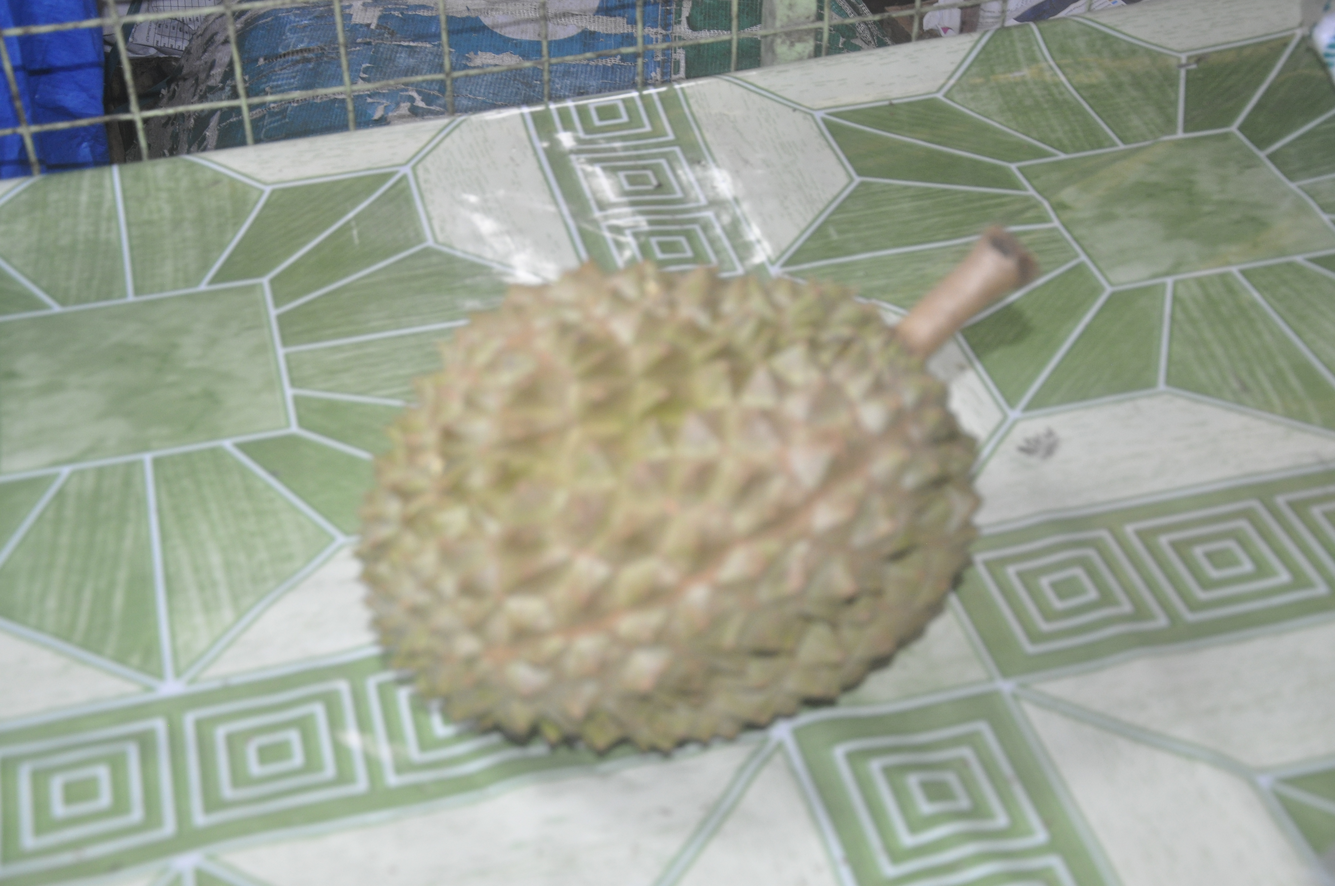mature: (358, 230, 1030, 751)
